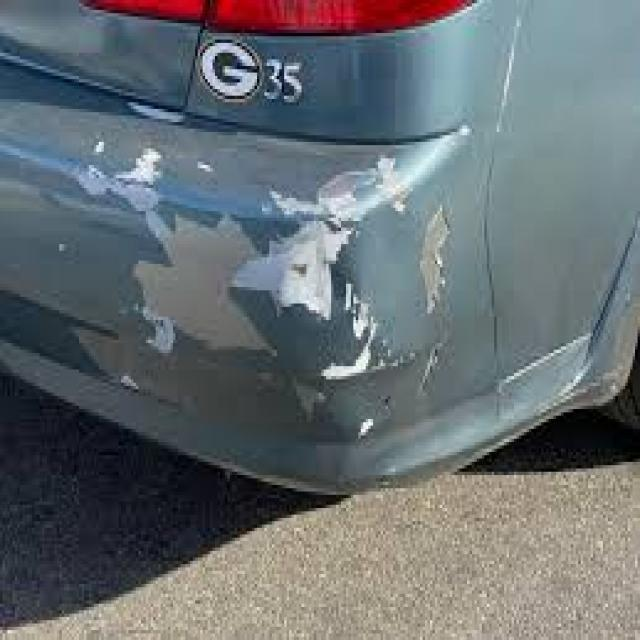dent-or-scratch: (76, 154, 474, 396)
